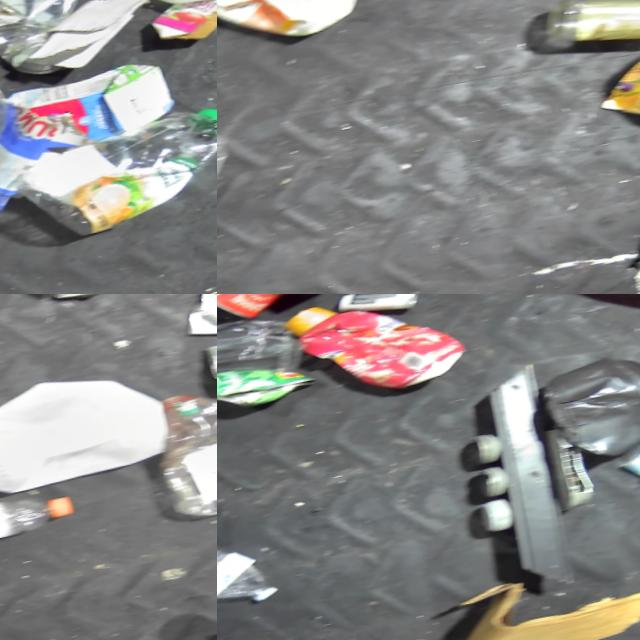can: (217, 356, 316, 415), (333, 294, 422, 322), (217, 294, 295, 325), (8, 34, 60, 80)
milk_jug: (0, 359, 176, 511)
non_white_jug: (279, 294, 471, 408), (8, 56, 177, 156), (142, 370, 217, 529), (217, 0, 367, 55), (0, 83, 22, 200)
plastic_bottle: (6, 101, 217, 246), (0, 0, 96, 82), (217, 523, 281, 615), (0, 483, 80, 556)
